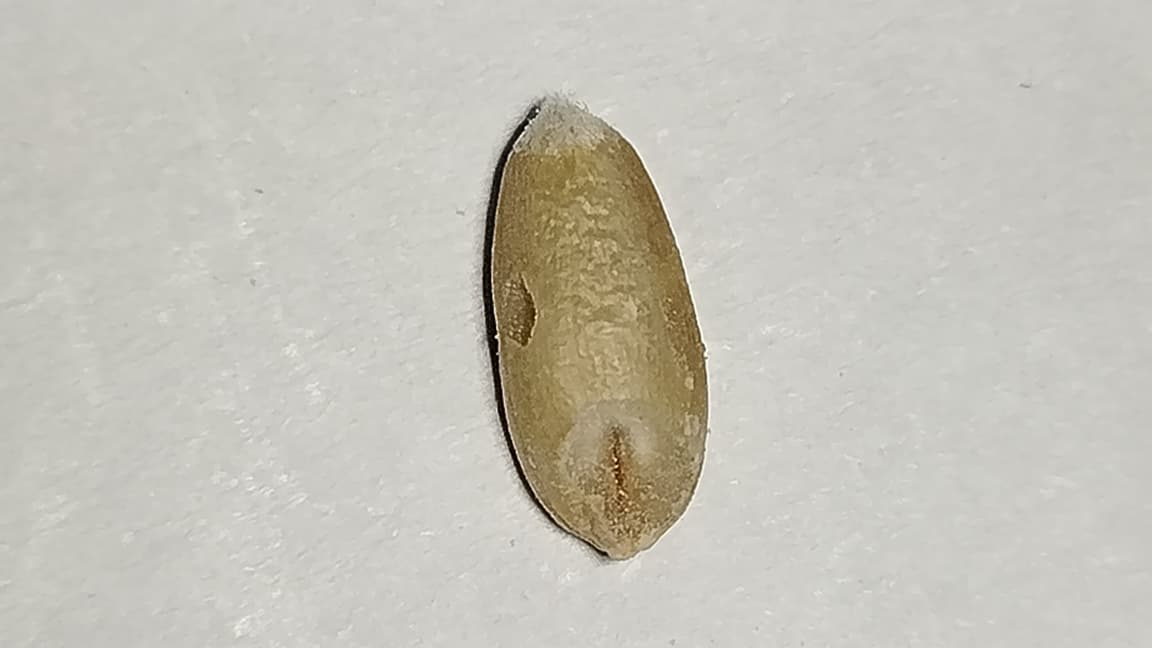damage: (488, 104, 707, 558)
insectdamage: (554, 401, 668, 548), (484, 267, 562, 352)
